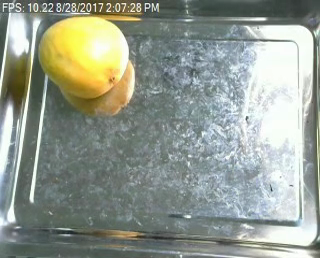Mango: (40, 13, 128, 96)
